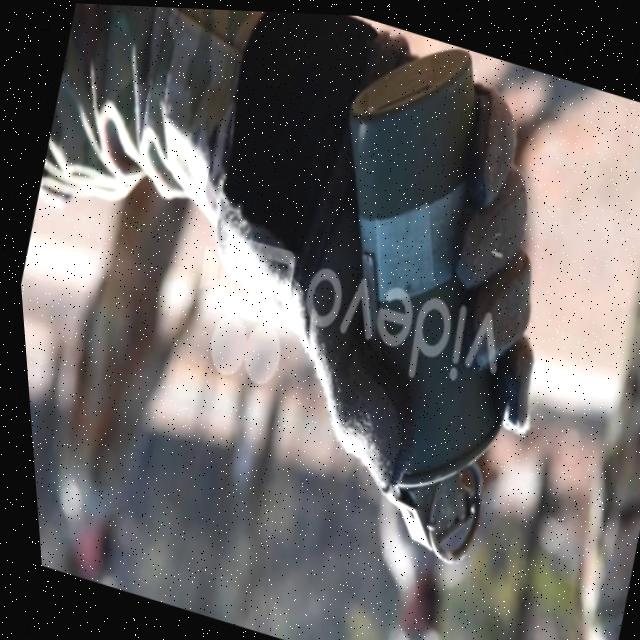grenade: (230, 9, 620, 586)
